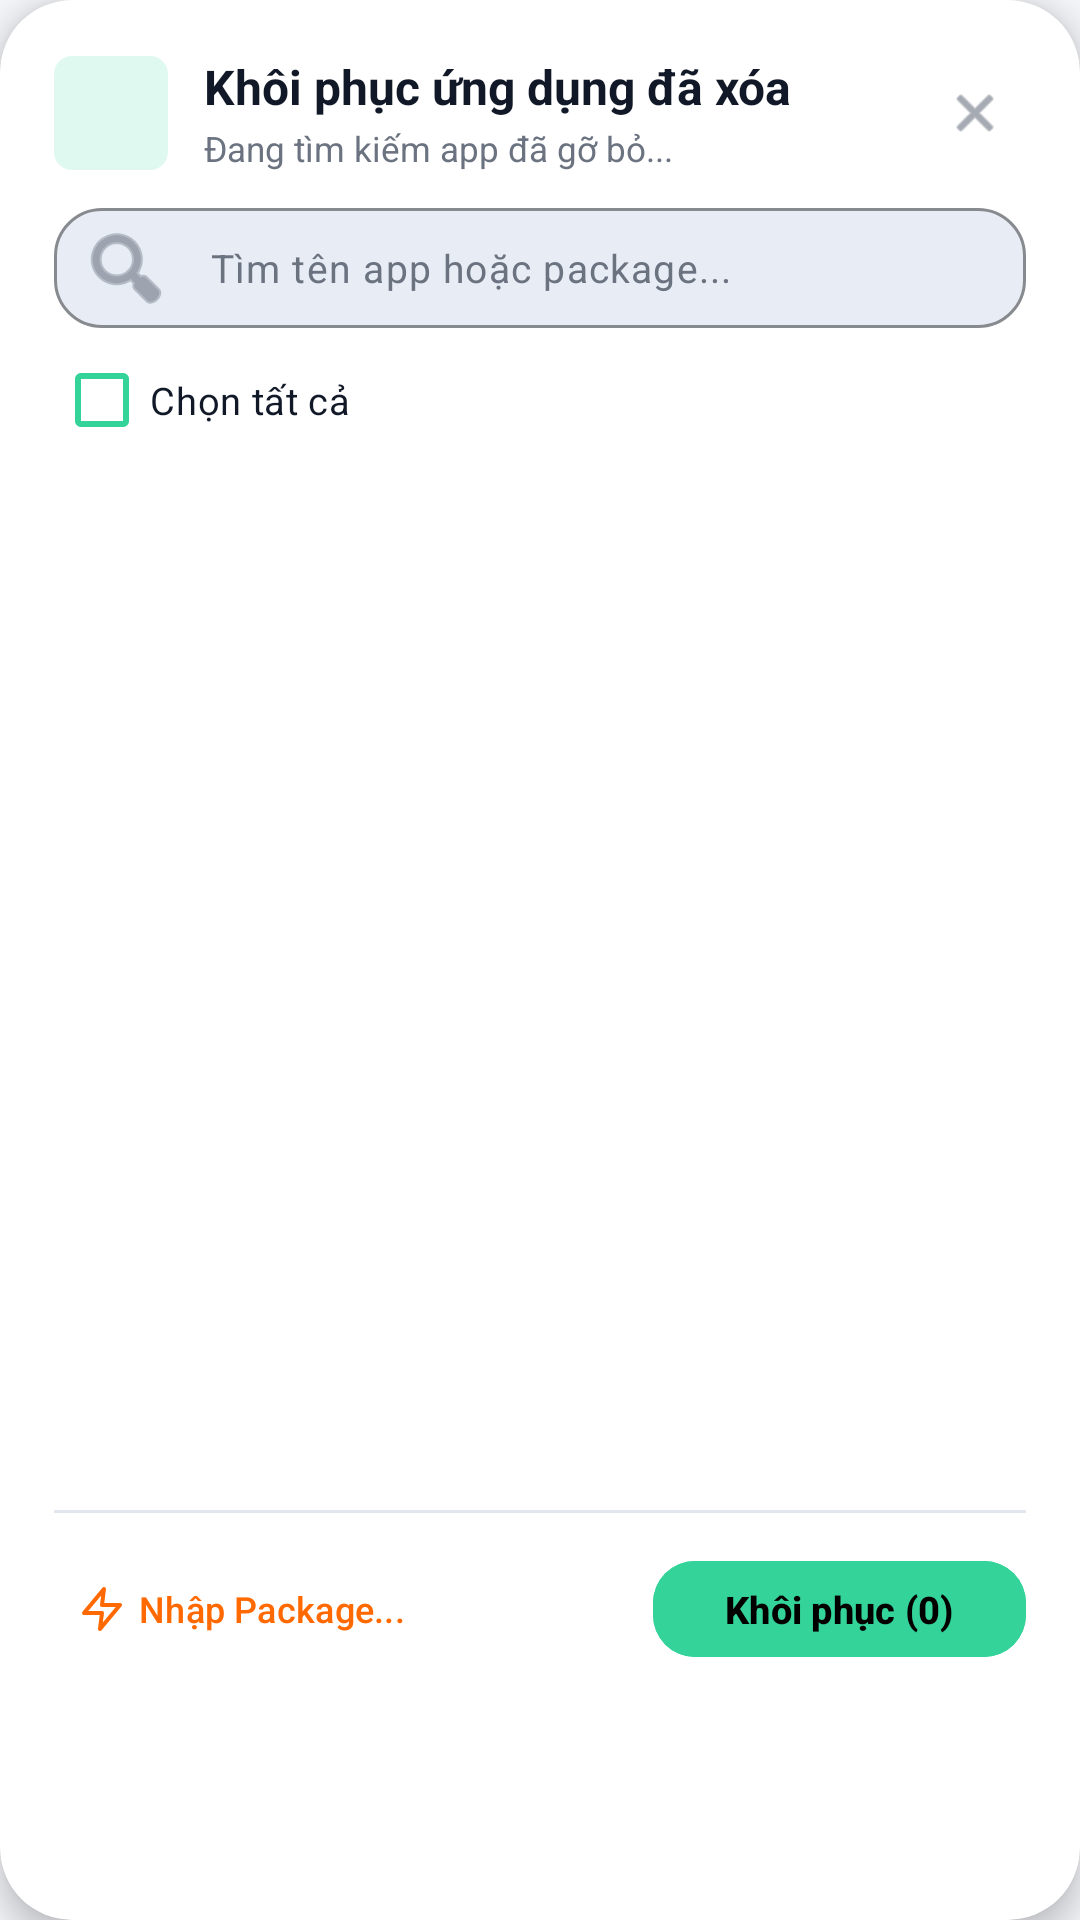

Screen size 1080 × 1920. Icon name, then its box in pixels as (x1, y1, x2, y2):
close clear cancel: (956, 94, 994, 132)
